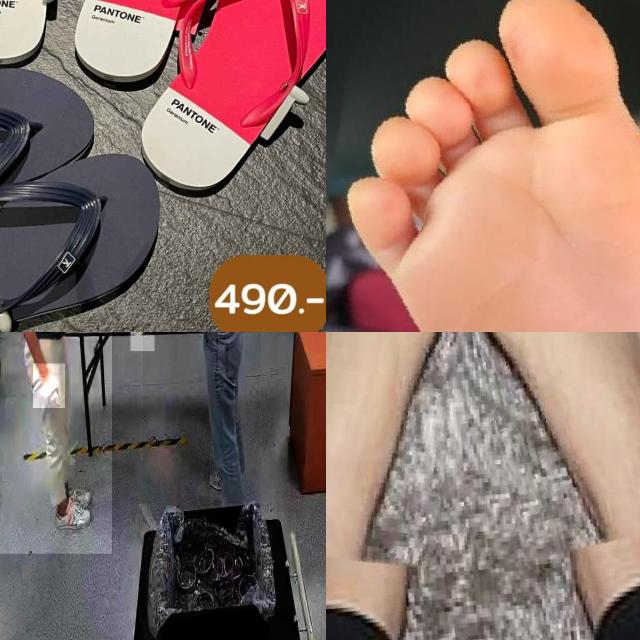Barefoots: (326, 0, 640, 332), (373, 0, 640, 332), (490, 332, 640, 533), (326, 332, 437, 578)
Sandals: (54, 0, 326, 210), (0, 54, 195, 332)
hand_glove: (33, 363, 65, 409), (130, 332, 155, 352)
person: (0, 332, 112, 554), (143, 332, 260, 523)
shoes: (52, 498, 92, 534)
